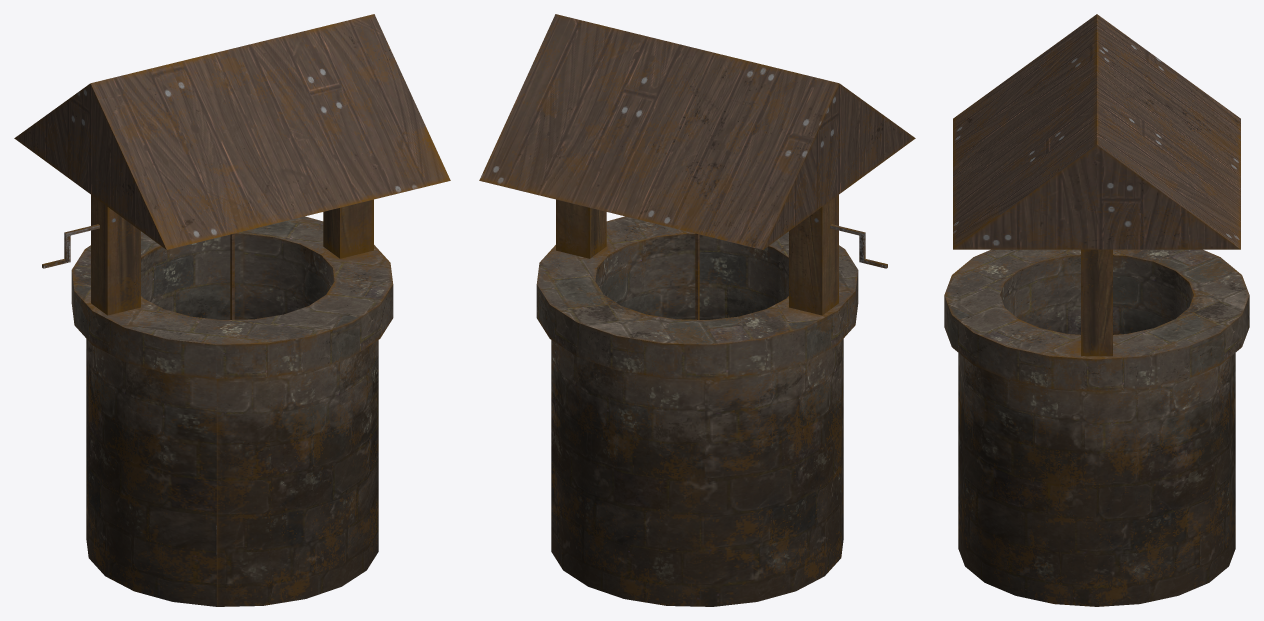
The model's file is medieval_well.glb.
3 views of the same model, side by side, from view 1: azimuth 30°, elevation 25°; view 2: azimuth 150°, elevation 25°; view 3: azimuth 270°, elevation 25° (orthographic). The views are drawn at different scales.
Parts seen in each view (by area): view 1: pCube5; view 2: pCube5; view 3: pCube5.
Part boxes in pixels (x1,y1,x2,y2): pCube5: [14, 14, 450, 606]; pCube5: [479, 14, 915, 606]; pCube5: [944, 14, 1249, 606].
Bounding box in the file's own units: 5.82 × 8.33 × 4.91.
Materials: 1 (1 with a texture image).
